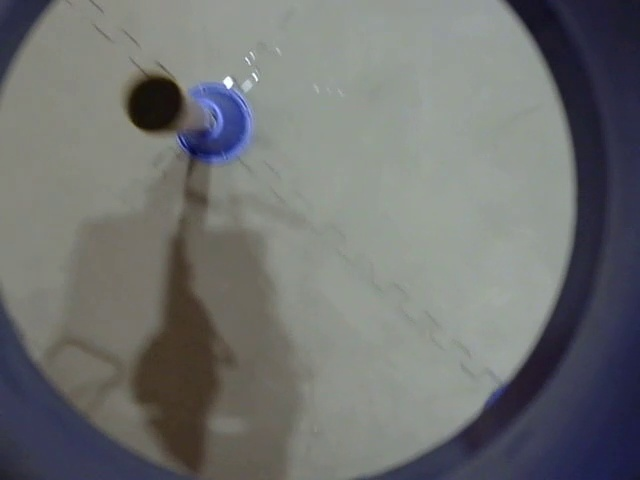tip: (120, 70, 184, 134)
